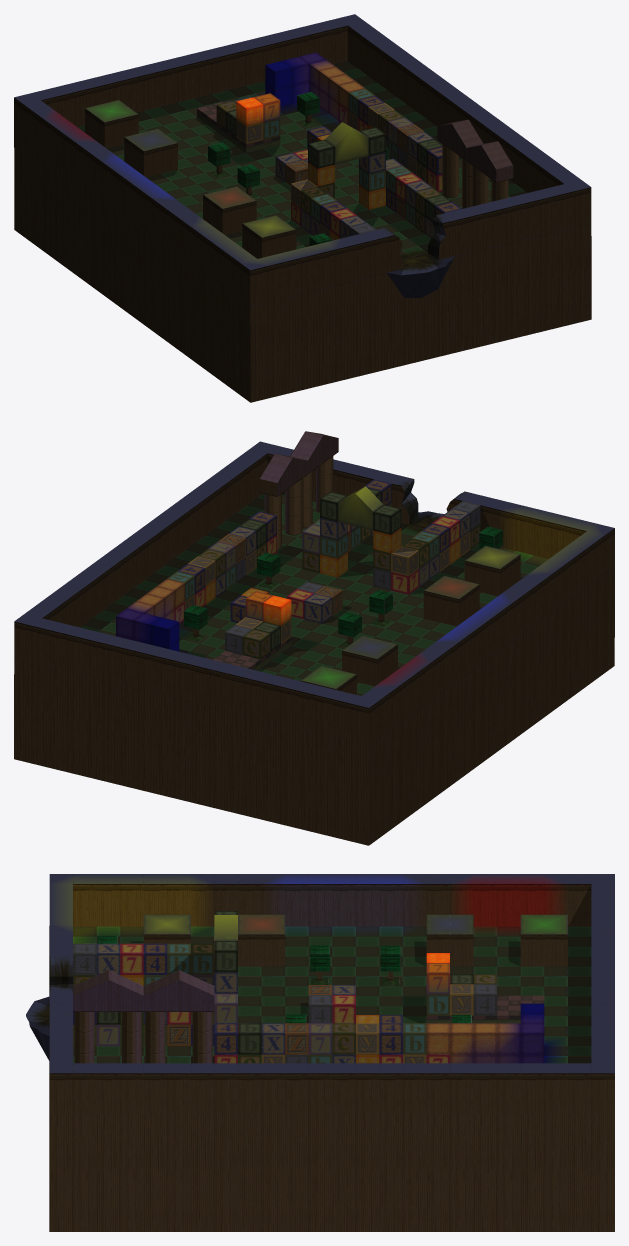
The model's file is test-zone2.glb.
3 renders of one model, top to bottom at view 1: azimuth 30°, elevation 25°; view 2: azimuth 150°, elevation 25°; view 3: azimuth 270°, elevation 25°, orthographic. The views are drawn at different scales.
Parts seen in each view (by area): view 1: fuck; view 2: fuck; view 3: fuck.
Boxes of the visible parts, bbox=[...] form: fuck: bbox=[14, 14, 591, 402]; fuck: bbox=[14, 431, 614, 845]; fuck: bbox=[26, 874, 614, 1231].
Size of the model in its own units: 315 by 156 by 392.
Materials: 2 (1 with a texture image).
